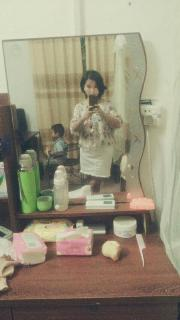short sleeve top: (70, 98, 123, 151)
skirt: (80, 140, 114, 178)
